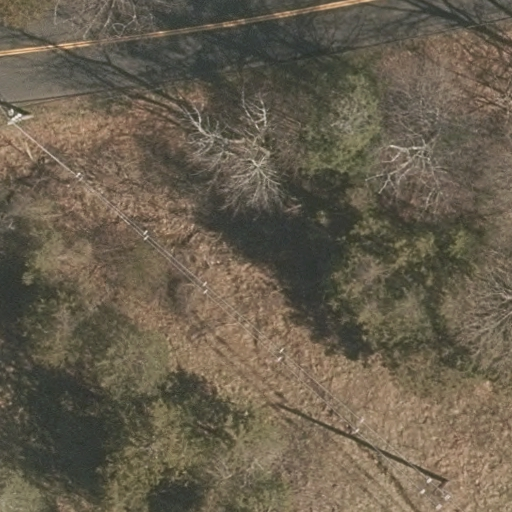DT: (418, 477, 453, 512)
